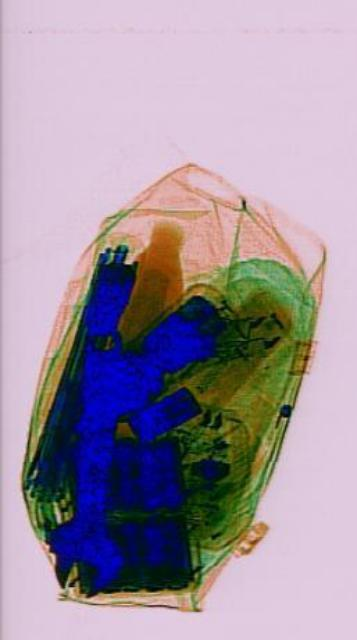Wrench: (43, 315, 143, 607)
